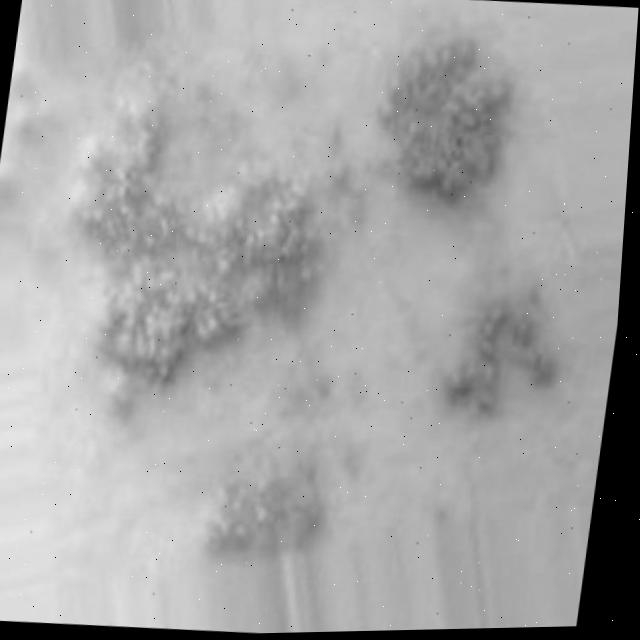Shingles: (19, 9, 600, 575)
